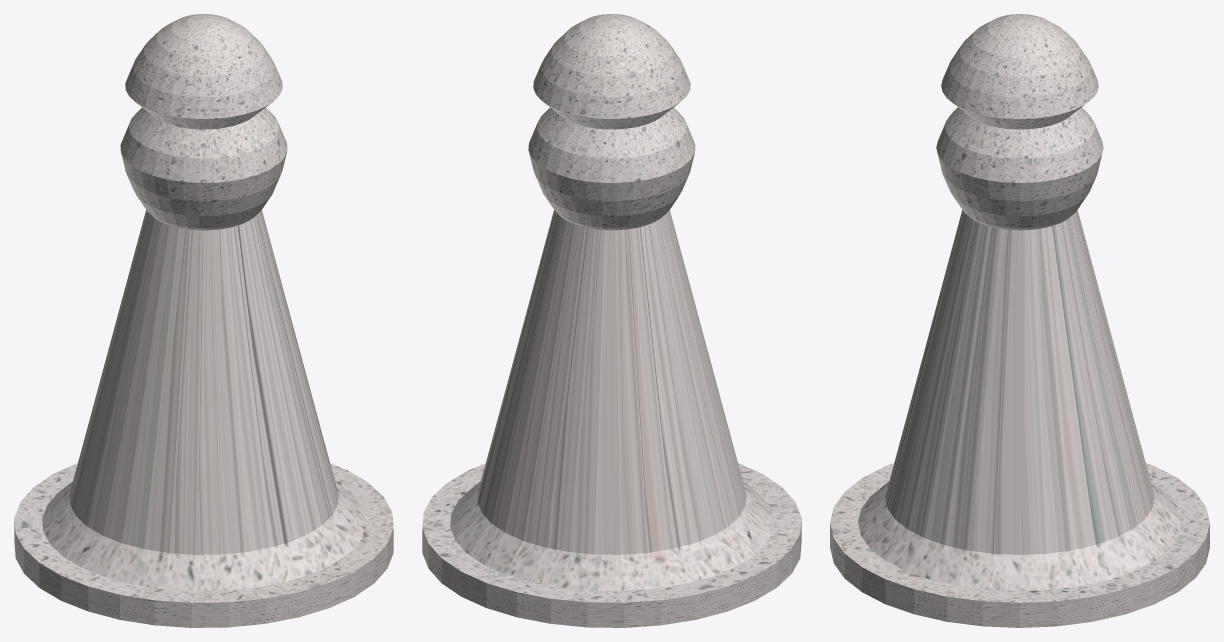
The model's file is WhiteBishop.fbx.
The picture shows the model from 3 angles, left to right: view 1: azimuth 30°, elevation 25°; view 2: azimuth 150°, elevation 25°; view 3: azimuth 270°, elevation 25°; orthographic projection.
Parts seen in each view (by area): view 1: Cylinder; view 2: Cylinder; view 3: Cylinder.
Part boxes in pixels (x1=…): Cylinder: x1=14, y1=14, x2=393, y2=627; Cylinder: x1=422, y1=14, x2=801, y2=627; Cylinder: x1=830, y1=14, x2=1209, y2=627.
Size of the model in its own units: 200 by 307 by 200.
